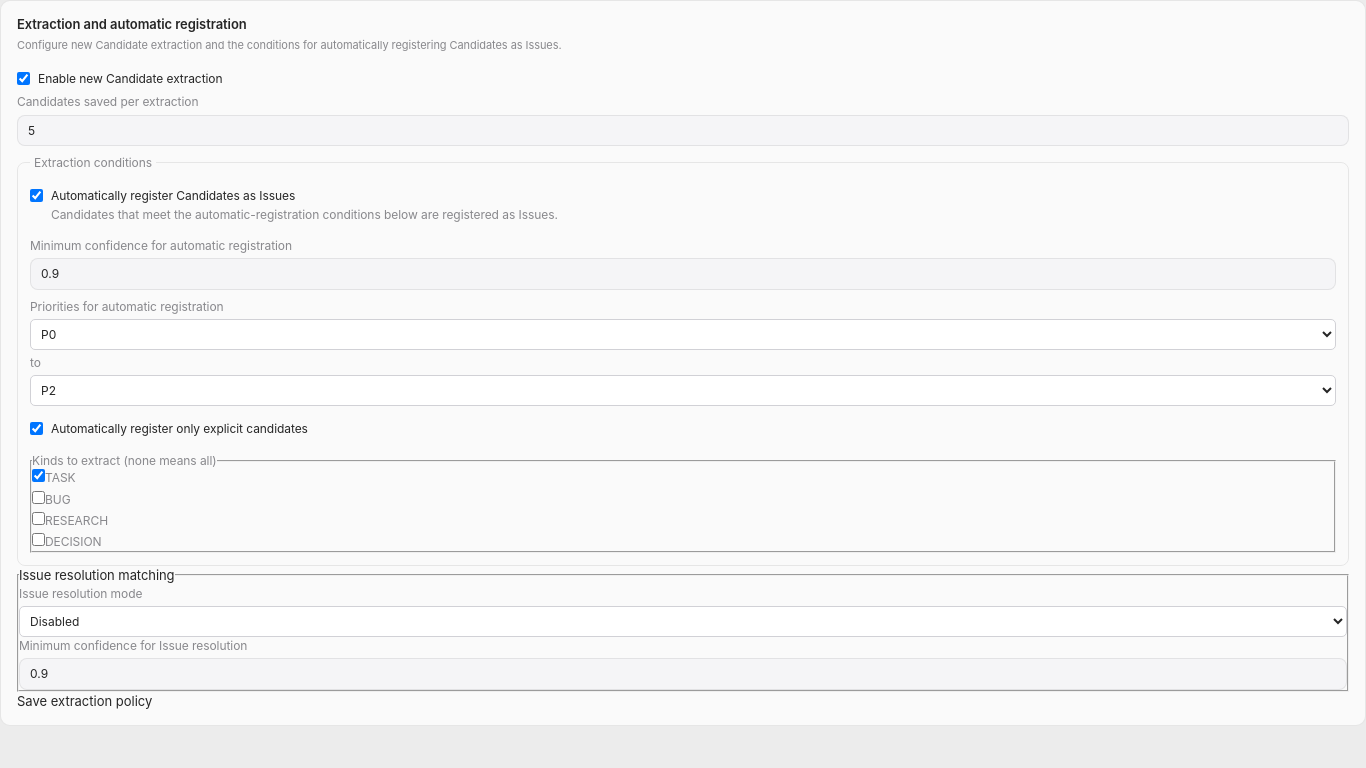
Scenario: AutoIssuePolicyCard › disables automatic-registration conditions while extraction is disabled
Click the checkbox labelled "Enable new Candidate extraction": (24, 78) [17, 72, 30, 85]
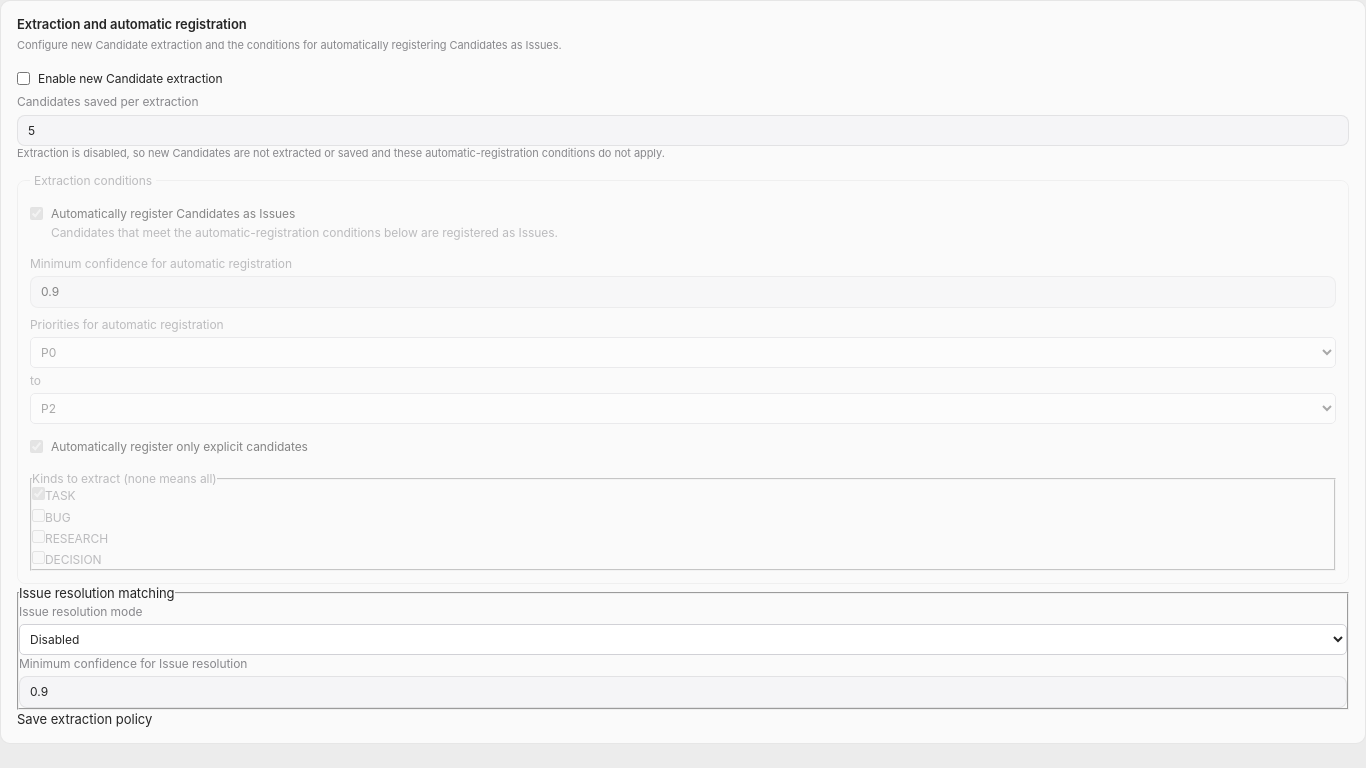
Check: the element "Extraction conditions" is disabled, box [17, 172, 1349, 584]
Check: the number field labelled "Minimum confidence for automatic registration" is disabled, box [30, 276, 1336, 308]
Check: the checkbox labelled "TASK" is disabled, box [32, 487, 45, 500]
